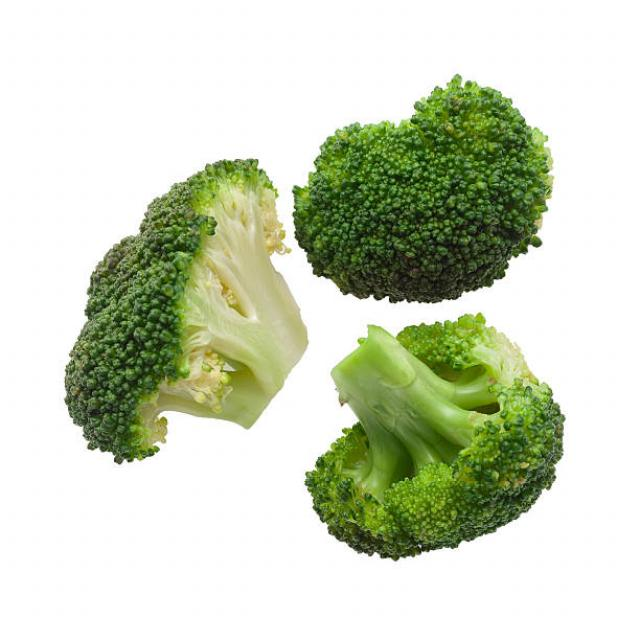Broccoli head: (68, 150, 282, 485), (287, 105, 597, 294)
